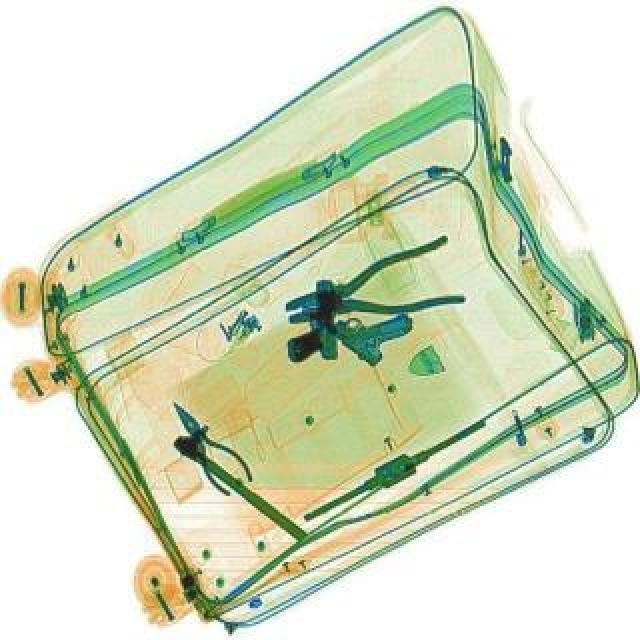gun: (298, 266, 418, 370), (282, 276, 338, 360)
wrench: (276, 234, 470, 346), (156, 390, 256, 498)
